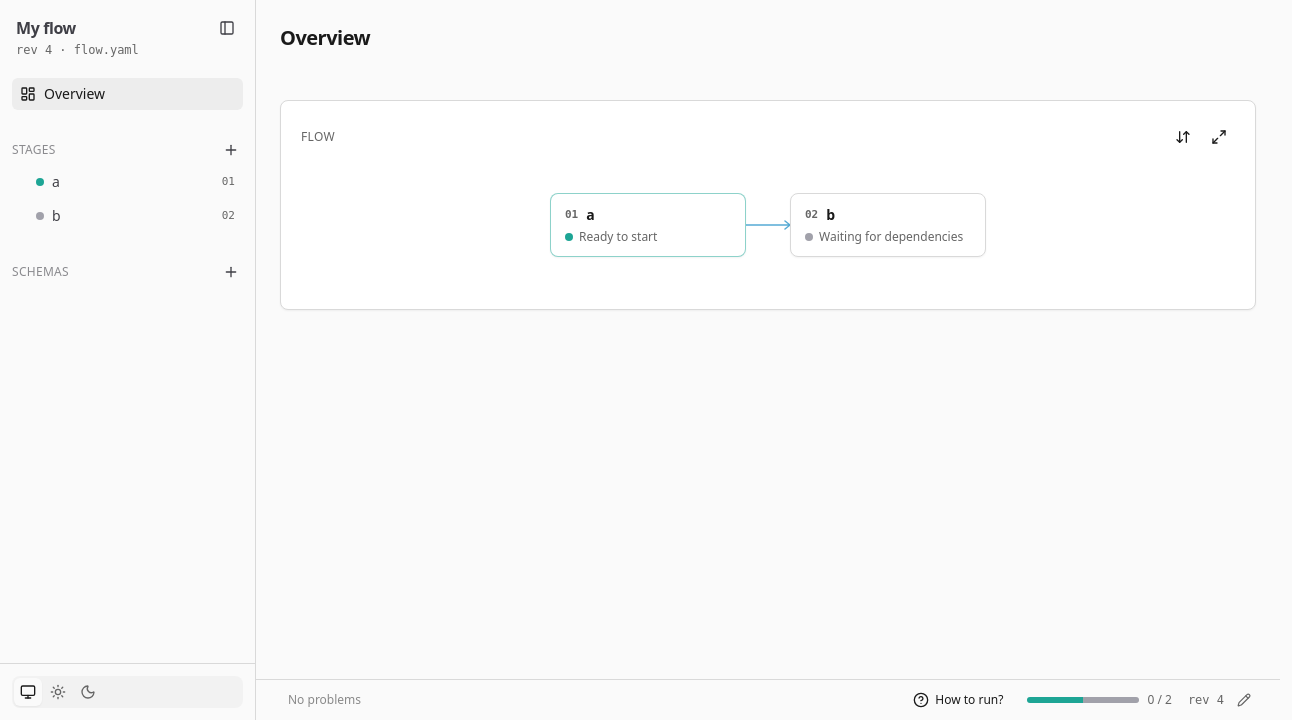
Test: revision badge › a_manual_revision_is_applied_and_counts_as_a_change
Click the button named "Edit revision" at (1244, 700), box left=1232, top=688, right=1256, bottom=712
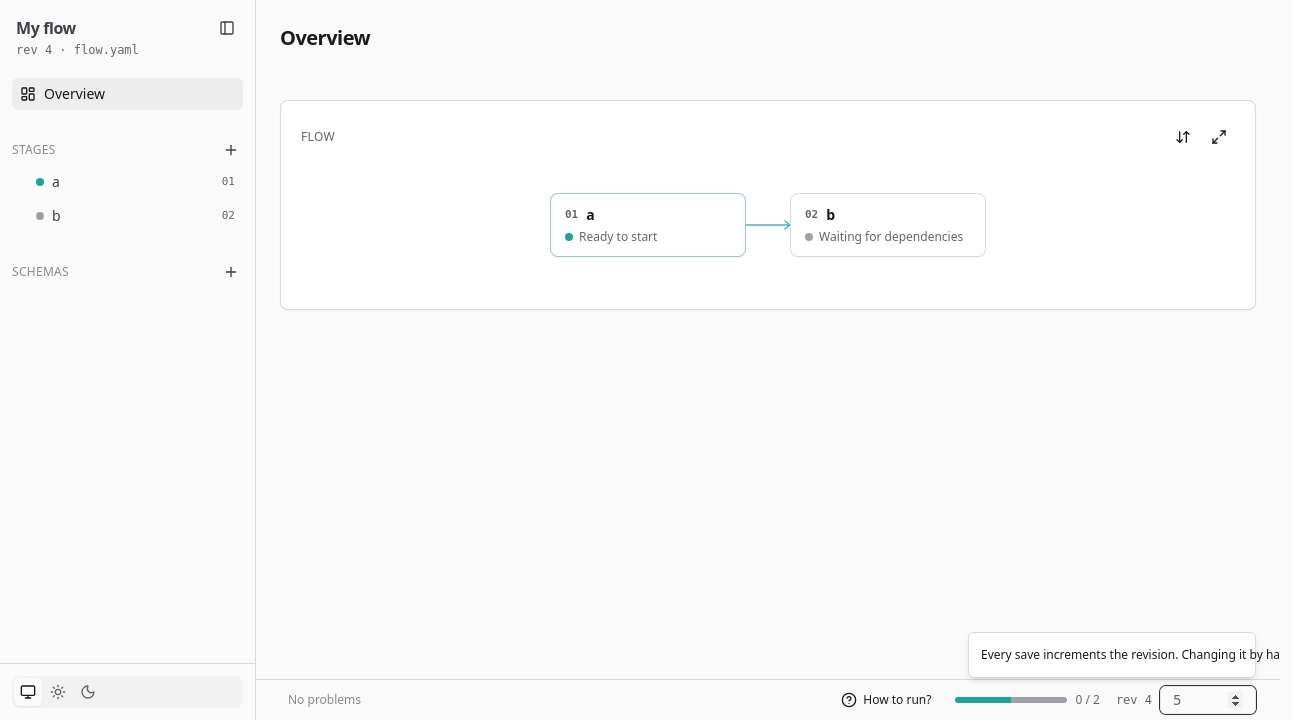
Replace the text in the number field named "Revision" with "20" at (1208, 700), box left=1160, top=686, right=1256, bottom=714
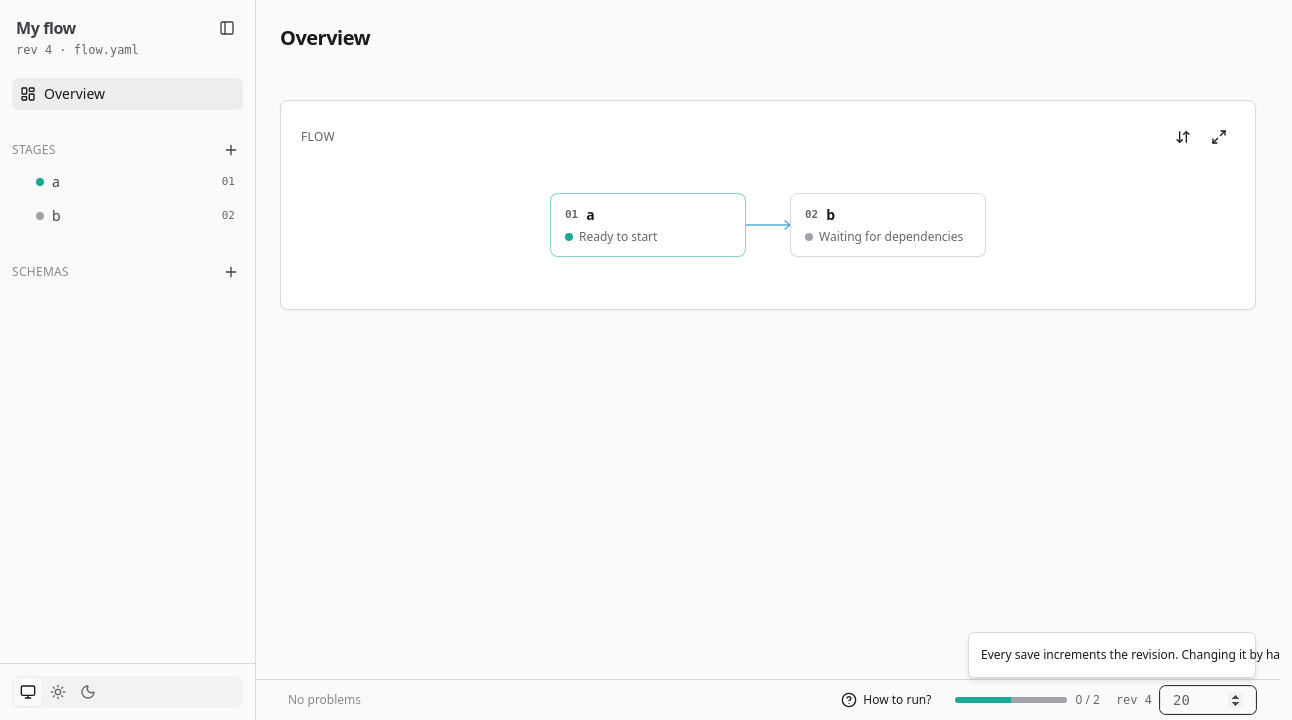
Press Enter in the number field named "Revision", box left=1160, top=686, right=1256, bottom=714
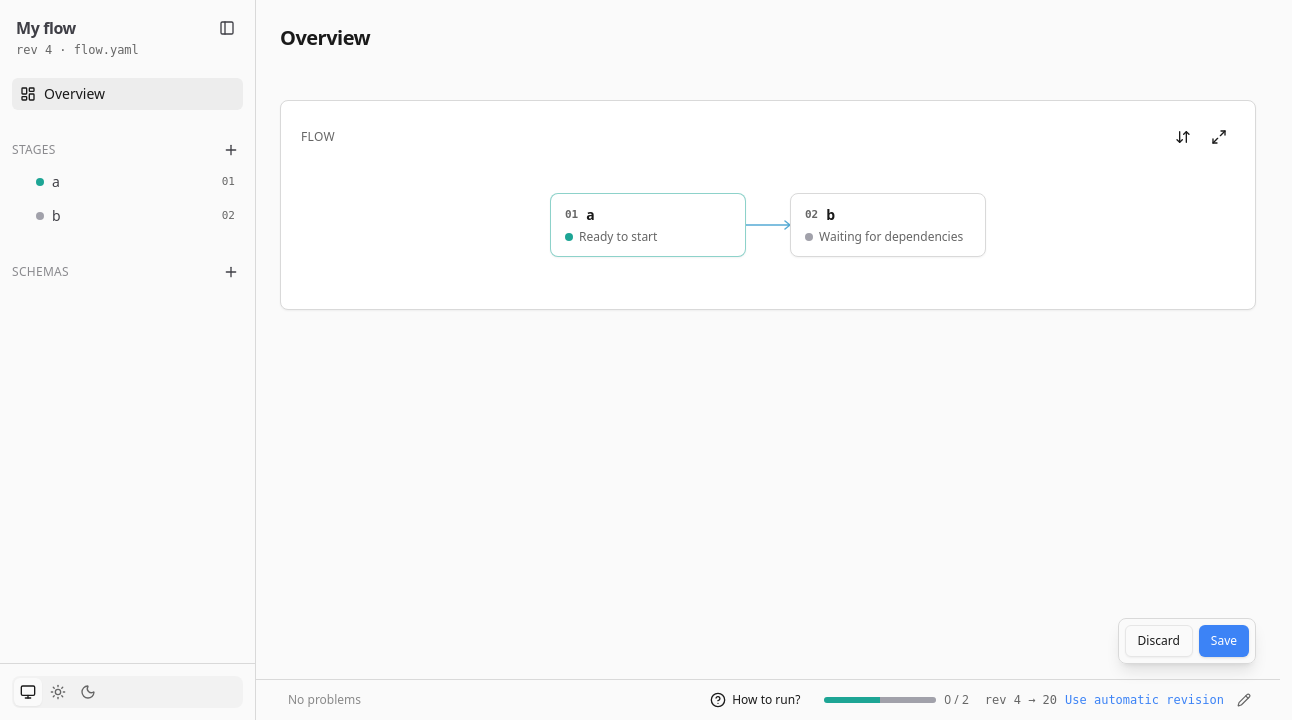
Check: the button "Save" is enabled, box left=1199, top=625, right=1249, bottom=657
Check: the element with test id "revision-badge" shows "rev 4 → 20", box left=985, top=693, right=1057, bottom=707
